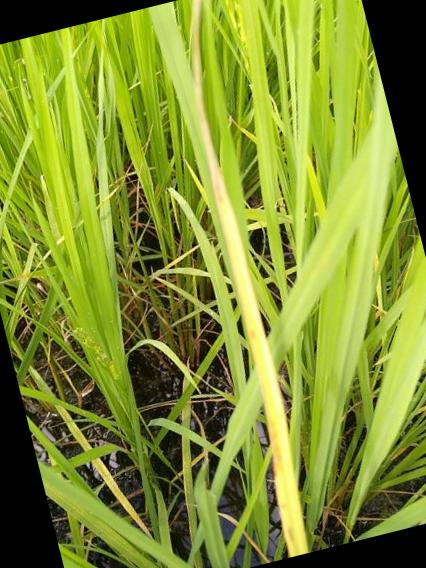Leaf Blight: (191, 0, 312, 558)
